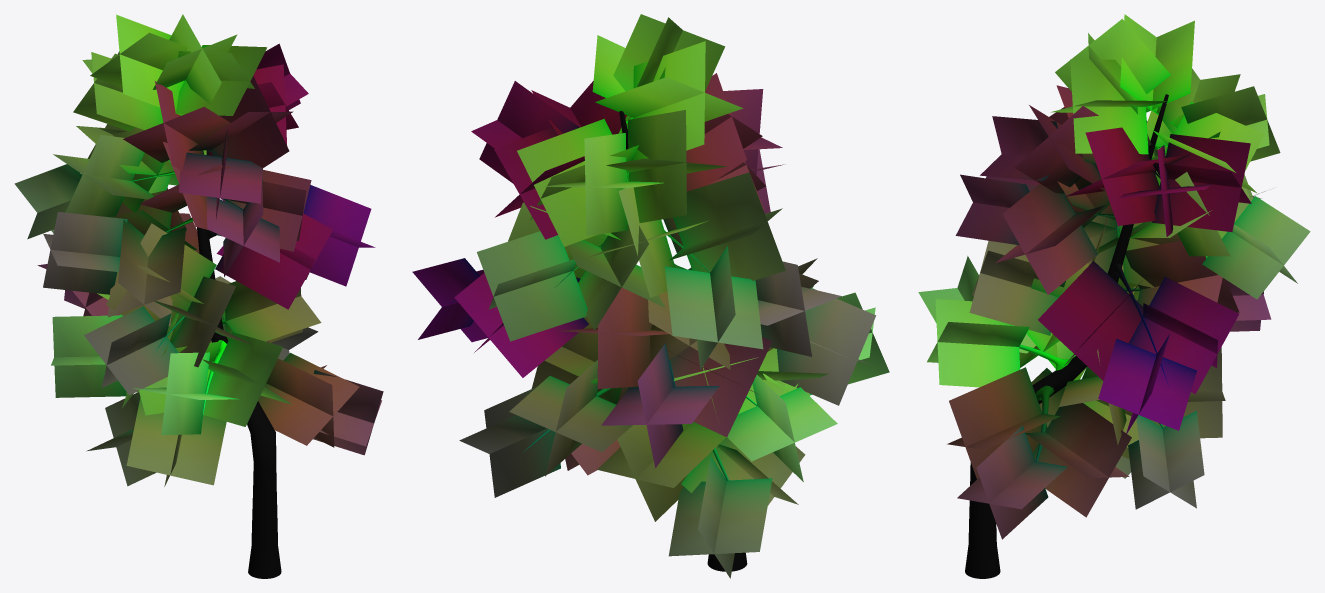
File: URP_P7_Tree_1_LOD_1.fbx
3 renders of one model, left to right at view 1: azimuth 30°, elevation 25°; view 2: azimuth 150°, elevation 25°; view 3: azimuth 270°, elevation 25°, orthographic. The views are drawn at different scales.
Parts seen in each view (by area): view 1: Tree_1_LOD_1; view 2: Tree_1_LOD_1; view 3: Tree_1_LOD_1.
Boxes of the visible parts, x1,y1,x2,y2 form: Tree_1_LOD_1: (14, 14, 383, 578); Tree_1_LOD_1: (412, 14, 889, 578); Tree_1_LOD_1: (918, 14, 1310, 578).
Bounding box in the file's own units: 281 × 405 × 265.
